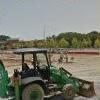Tractor: (13, 40, 100, 100)
